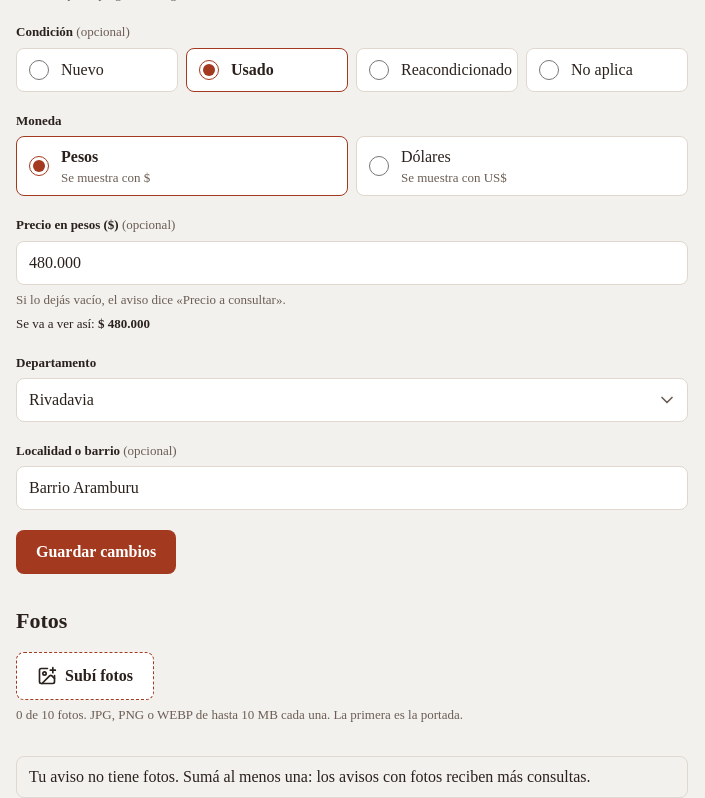
Scenario: /avisos/[id]/editar › muestra el error del backend al guardar
(page scrolled)
Click the button "Guardar cambios" at (96, 552), box [16, 530, 176, 574]
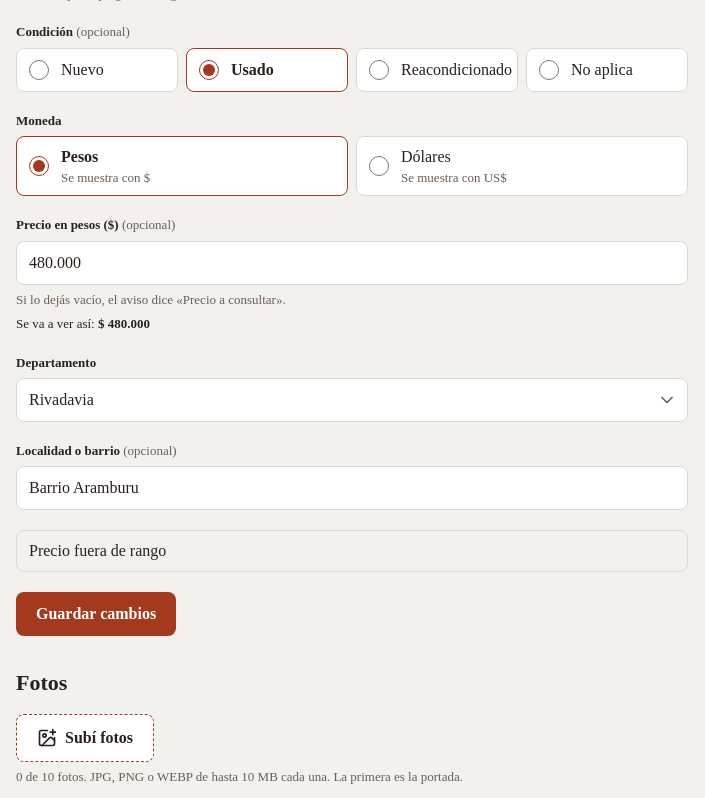
Check: the button "Guardar cambios" is enabled, box [16, 592, 176, 636]
Check: the message reads "Precio fuera de rango", box [29, 542, 166, 560]
